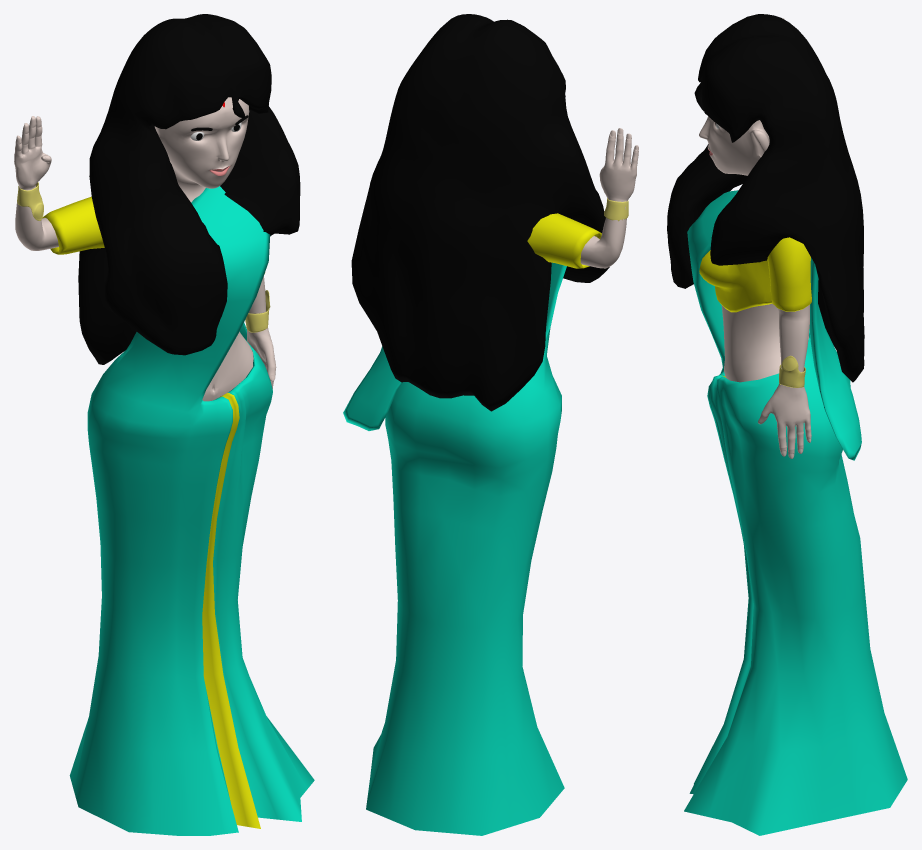
Rendered from Laxmi FBX.fbx.
3 views of the same model, side by side, from view 1: azimuth 30°, elevation 25°; view 2: azimuth 150°, elevation 25°; view 3: azimuth 270°, elevation 25° (orthographic). The views are drawn at different scales.
Parts seen in each view (by area): view 1: polySurface217; view 2: polySurface217; view 3: polySurface217.
Boxes of the visible parts, left/top/right/bottom form: polySurface217: left=14, top=14, right=314, bottom=835; polySurface217: left=343, top=14, right=638, bottom=835; polySurface217: left=667, top=14, right=907, bottom=835.
Size of the model in its own units: 66.59 by 175 by 50.38.
